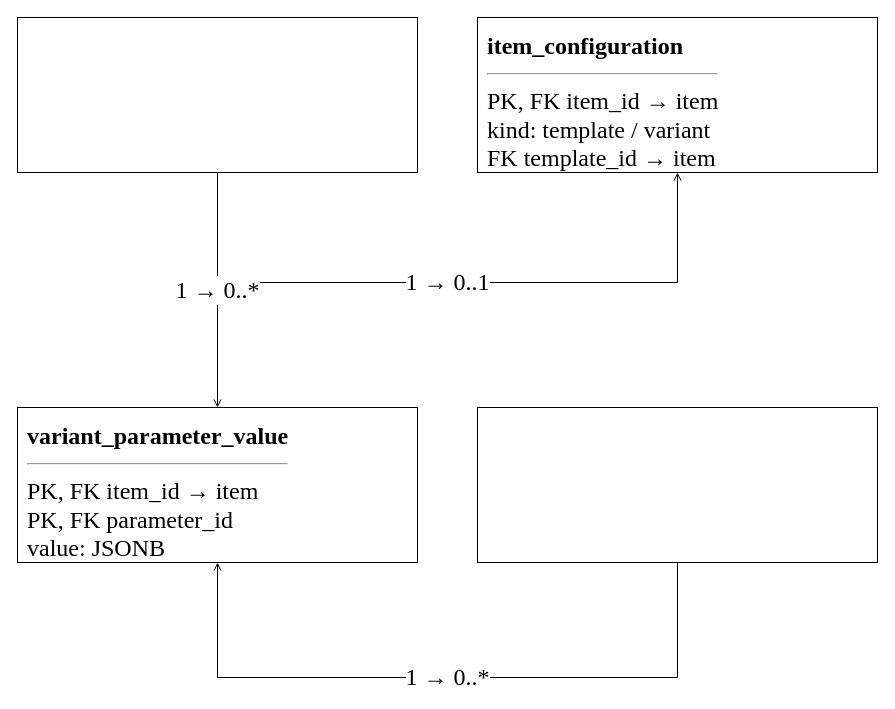
This 895x709 diagram has some shape labels left out. The shapes that lost their labels are listed below. From the top down, each one's centre as x and y in pixels, then its label:
At (x=217, y=94): "item PK id; number; name FK item_class_id; item_type_id FK base_item_id (№5)".
At (x=677, y=484): "parameter PK id; code; name тип значения; единица справочник перечисления".
